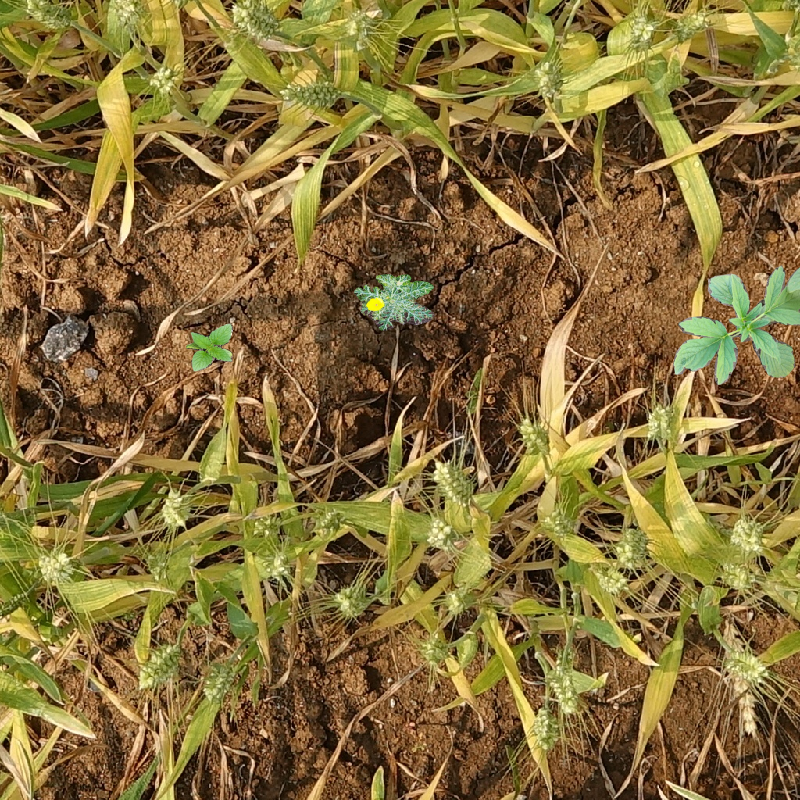spikelet: (135, 640, 182, 691), (278, 75, 339, 111), (545, 660, 583, 714), (229, 1, 279, 41), (432, 458, 475, 503), (200, 653, 240, 701), (722, 646, 769, 684), (338, 6, 376, 52), (21, 1, 76, 31), (34, 546, 76, 585), (727, 515, 767, 555), (157, 487, 194, 529), (614, 525, 650, 568), (516, 415, 552, 457), (532, 57, 565, 100), (308, 503, 347, 539), (671, 5, 710, 41), (644, 402, 676, 445), (332, 582, 369, 619), (543, 502, 579, 540), (416, 628, 451, 667), (262, 542, 297, 581), (625, 7, 658, 48), (531, 704, 560, 749), (591, 561, 628, 596), (718, 559, 757, 592), (423, 514, 458, 550), (145, 63, 181, 98), (1, 503, 37, 538), (442, 584, 477, 616), (106, 1, 143, 29), (781, 29, 799, 71)
weed: (673, 264, 800, 385), (354, 274, 435, 331), (186, 323, 233, 372)
